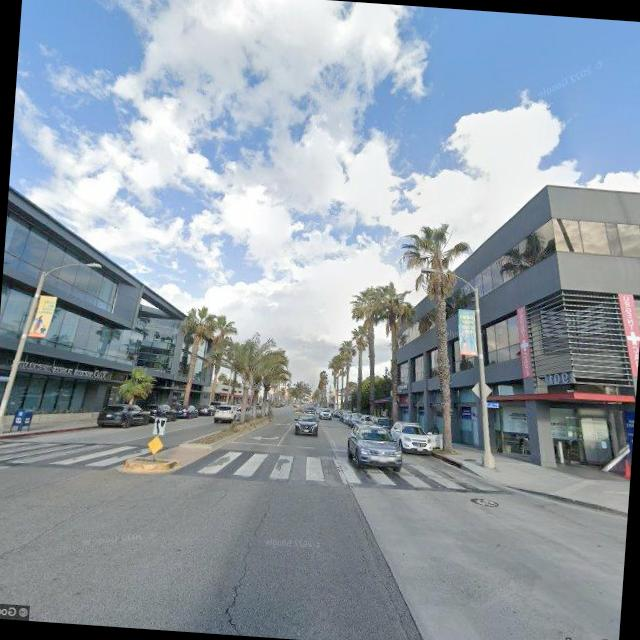pothole: (221, 498, 276, 635)
